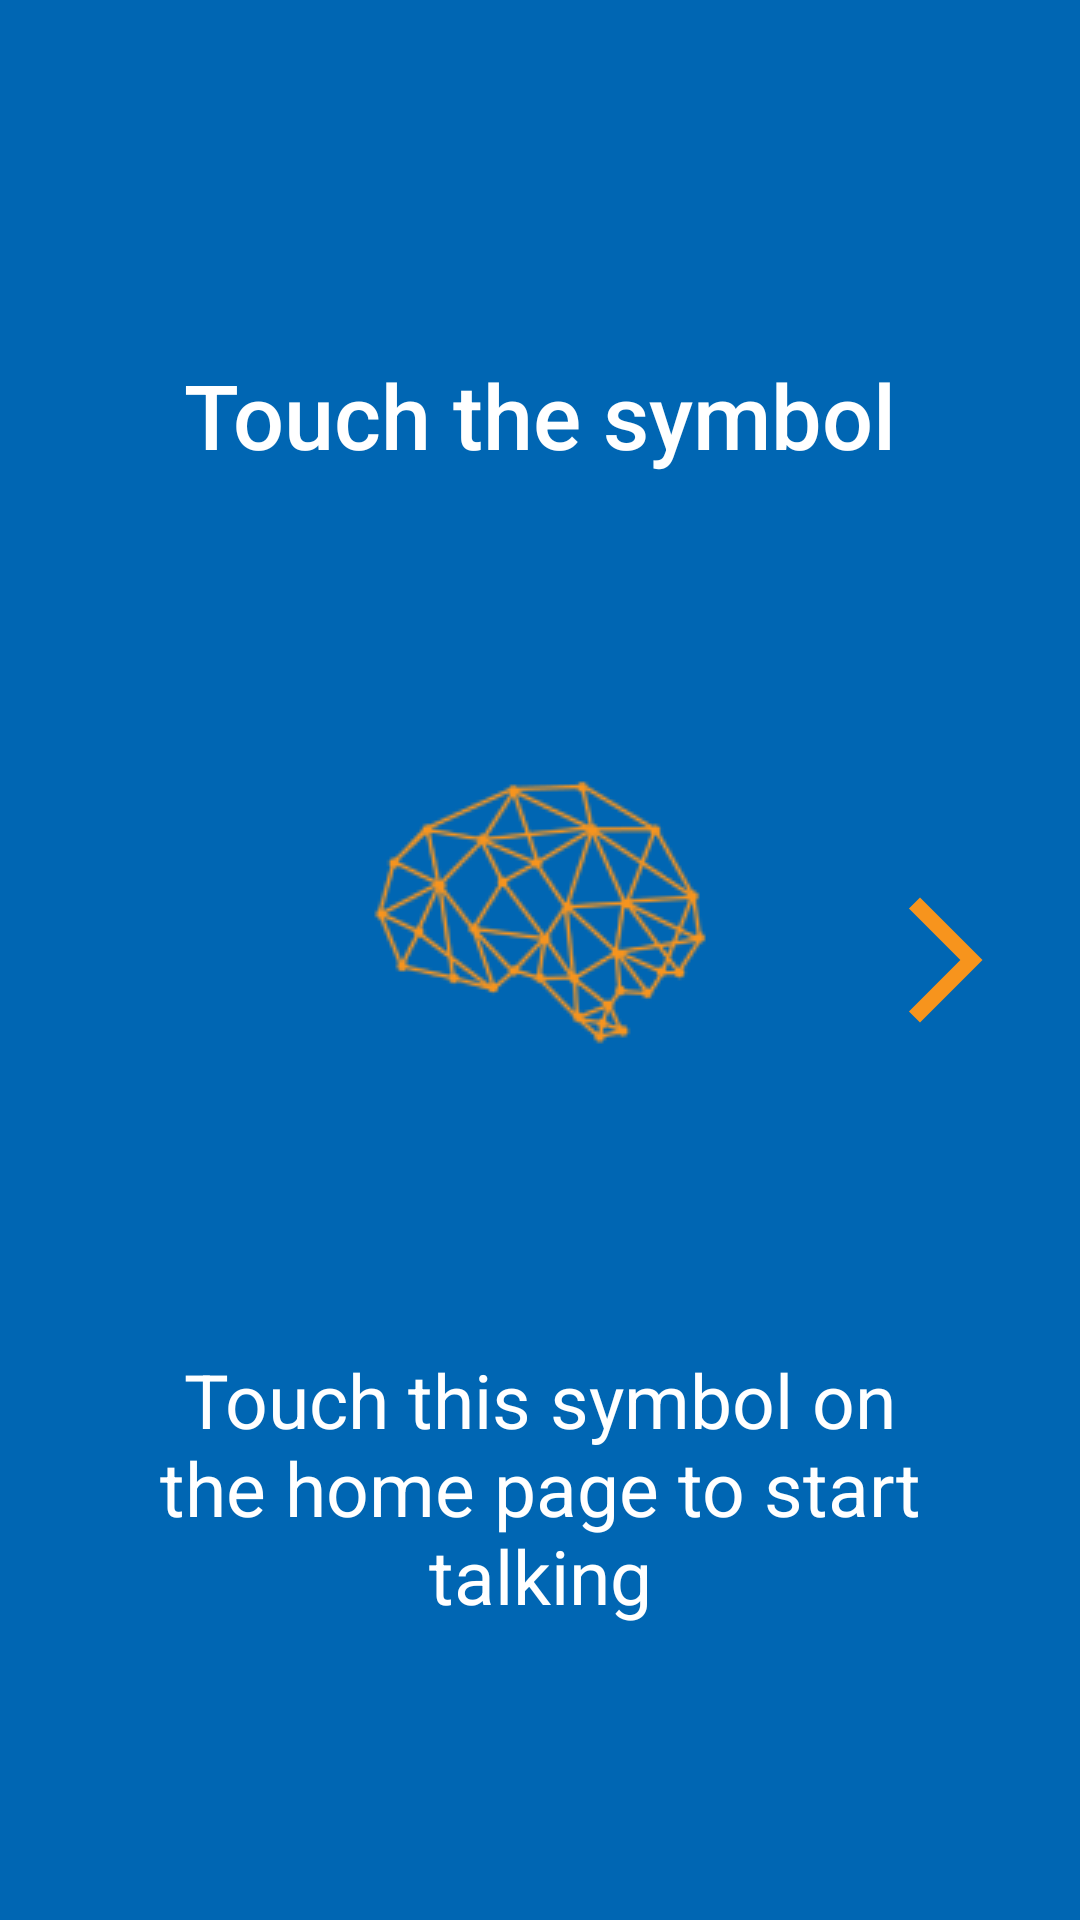

Where to tap for icons on this 1080x1920 app screen, as (x,y):
arrow forward: (946,960)
